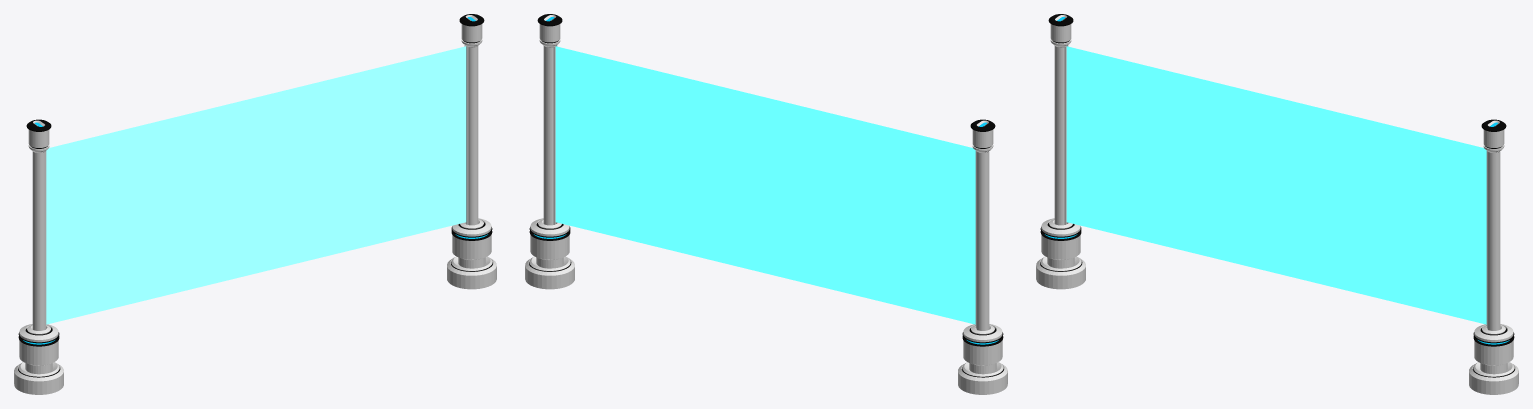
File: wall.fbx
The picture shows the model from 3 angles, left to right: view 1: azimuth 30°, elevation 25°; view 2: azimuth 150°, elevation 25°; view 3: azimuth 330°, elevation 25°; orthographic projection.
Parts seen in each view (by area): view 1: Cylinder; view 2: Cylinder; view 3: Cylinder.
Boxes of the visible parts, x1=… form: Cylinder: x1=14, y1=14, x2=496, y2=394; Cylinder: x1=525, y1=14, x2=1007, y2=394; Cylinder: x1=1036, y1=14, x2=1518, y2=394.
Size of the model in its own units: 1100 by 575 by 100.
